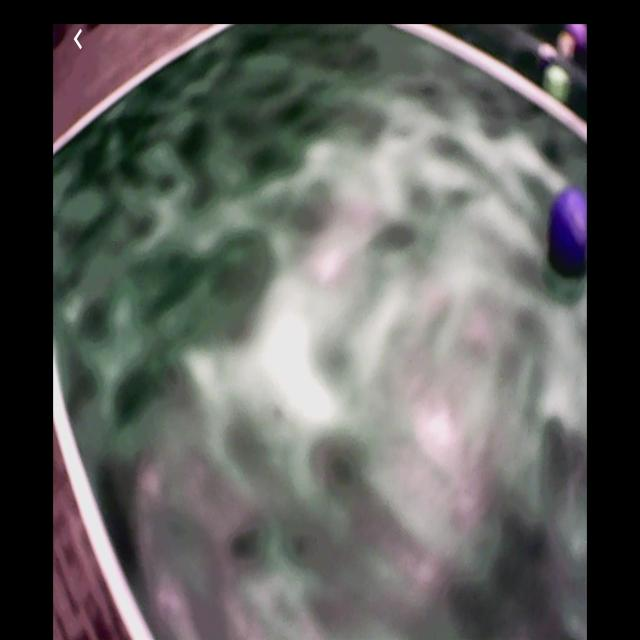ball: (549, 192, 588, 277), (569, 25, 588, 54)
